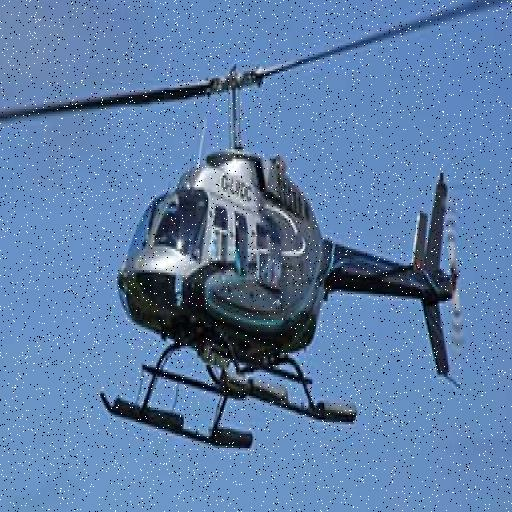helicopter: (47, 1, 512, 458)
